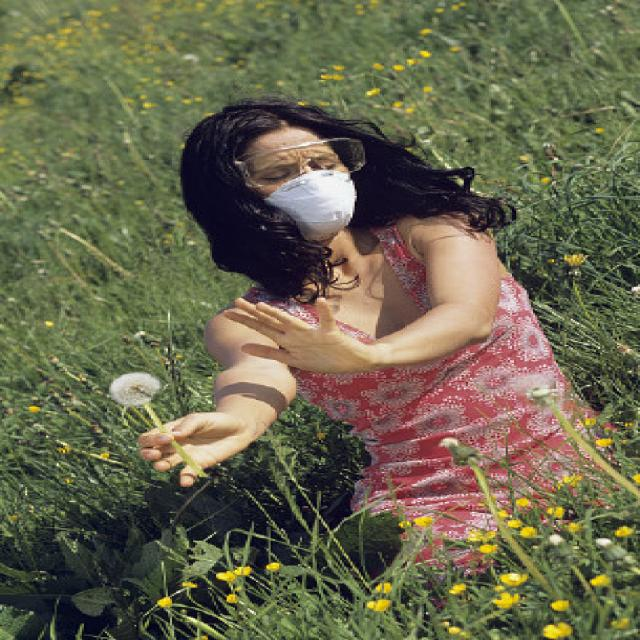mask: (242, 129, 354, 238)
